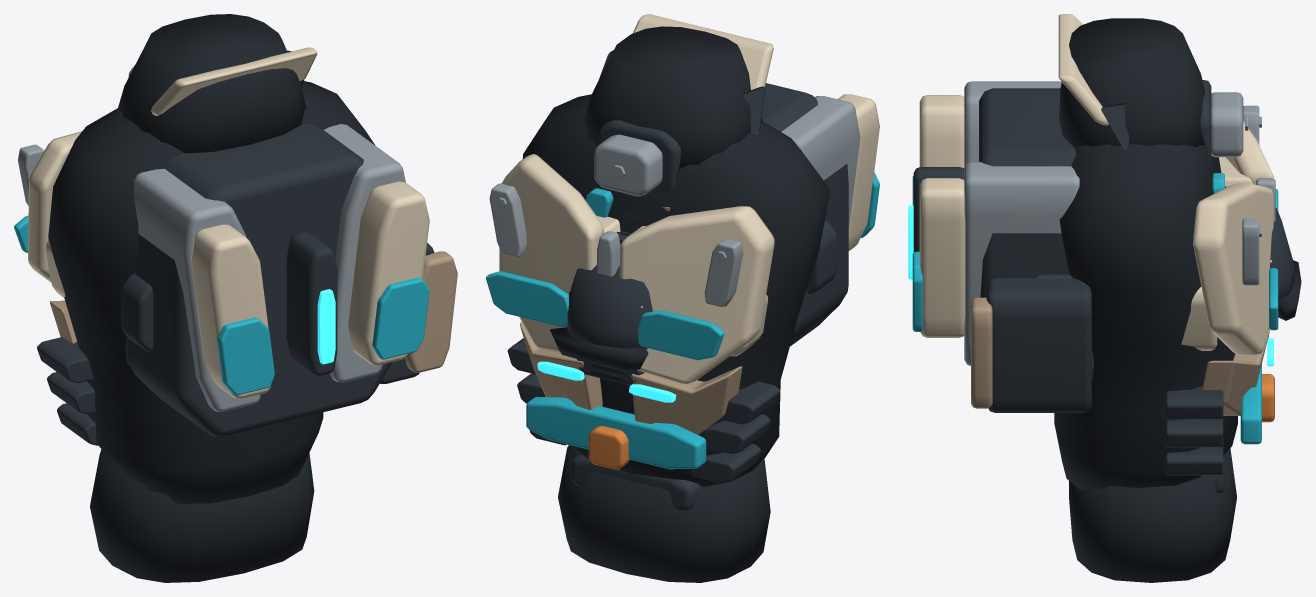
The model's file is VektorSuit.fbx.
3 renders of one model, left to right at view 1: azimuth 30°, elevation 25°; view 2: azimuth 150°, elevation 25°; view 3: azimuth 270°, elevation 25°, orthographic. The views are drawn at different scales.
Visible parts, largest first — view 1: Torso_Mount, Pelvis_Mount; view 2: Torso_Mount, LeftBoot_Mount, LeftShin_Mount, Pelvis_Mount, Helmet_Mount; view 3: Torso_Mount, LeftShin_Mount, LeftBoot_Mount, Pelvis_Mount, Helmet_Mount.
Boxes of the visible parts, left/top/right/bottom form: Torso_Mount: left=14, top=14, right=457, bottom=582; Pelvis_Mount: left=46, top=239, right=153, bottom=351; Torso_Mount: left=486, top=14, right=879, bottom=582; LeftBoot_Mount: left=550, top=231, right=652, bottom=370; LeftShin_Mount: left=594, top=120, right=680, bottom=196; Pelvis_Mount: left=609, top=210, right=837, bottom=356; Helmet_Mount: left=577, top=188, right=645, bottom=385; Torso_Mount: left=908, top=14, right=1278, bottom=582; LeftShin_Mount: left=1200, top=80, right=1248, bottom=166; LeftBoot_Mount: left=1270, top=208, right=1301, bottom=320; Pelvis_Mount: left=1035, top=168, right=1220, bottom=350; Helmet_Mount: left=1212, top=157, right=1268, bottom=337.
Bounding box in the file's own units: 0.4099 × 0.637 × 0.458.
